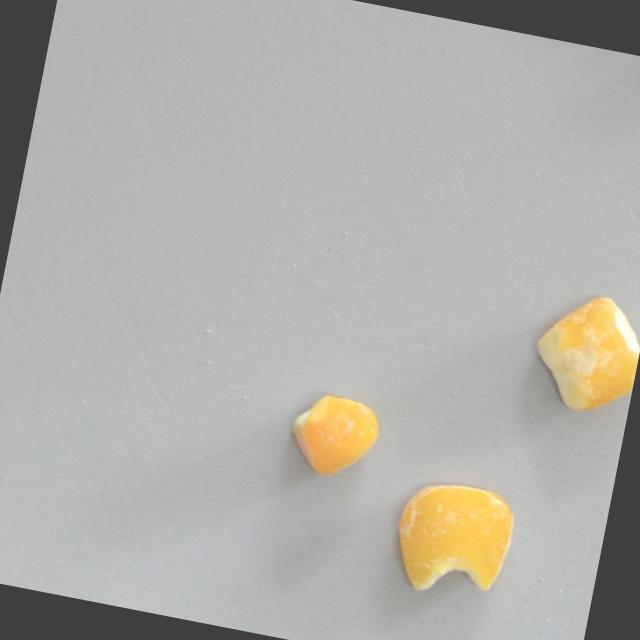pelicula: (380, 473, 522, 611), (520, 284, 640, 423), (279, 386, 385, 489)
